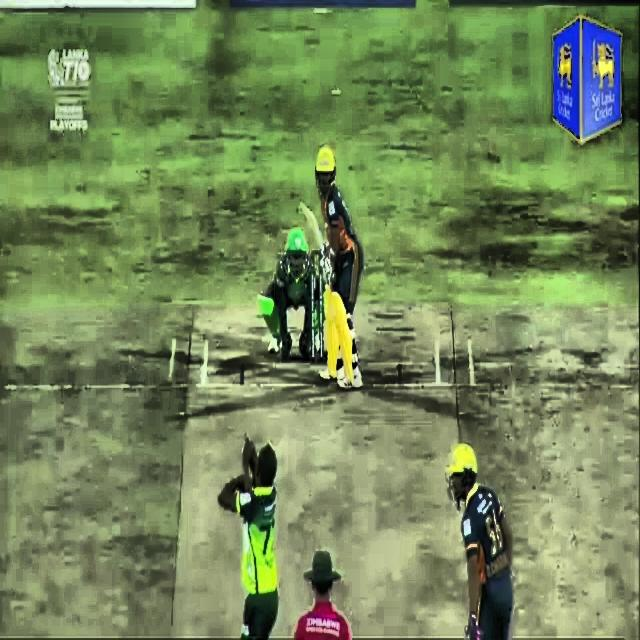Left-stump: (311, 260, 314, 362)
Middle-stump: (319, 264, 323, 362)
